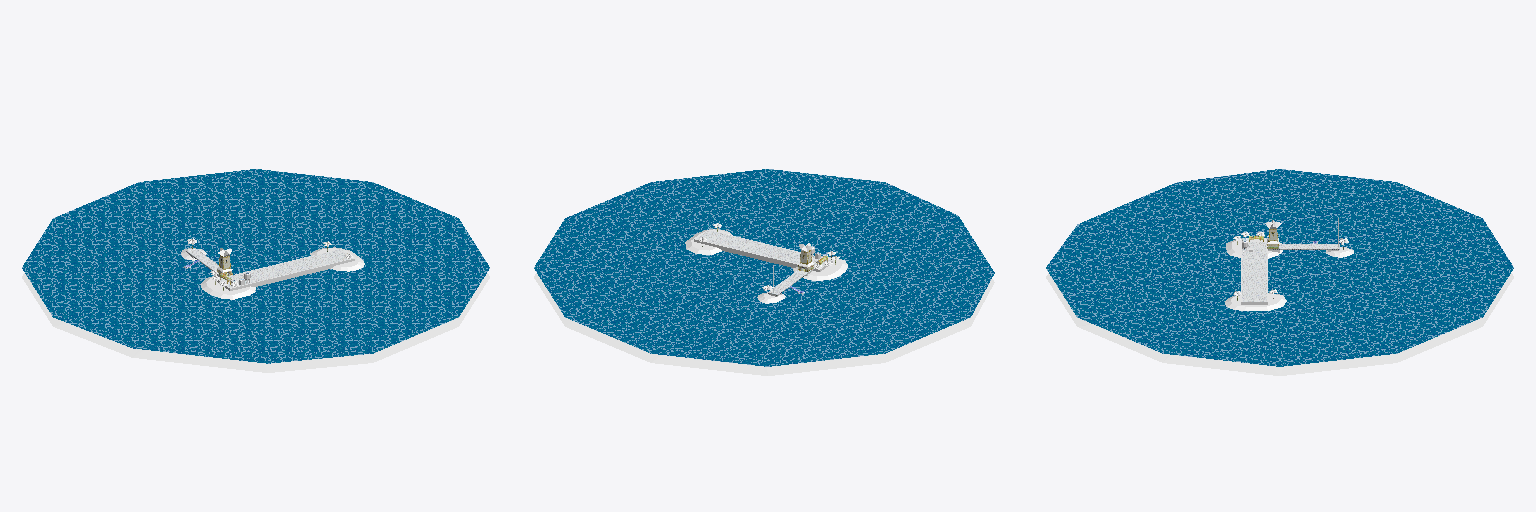
3 views of the same model, side by side, from view 1: azimuth 30°, elevation 25°; view 2: azimuth 150°, elevation 25°; view 3: azimuth 270°, elevation 25° (orthographic).
Visible parts, largest first — view 1: test; view 2: test; view 3: test.
Part boxes in pixels (x1,y1,x2,y2): test: (22,169,489,372); test: (534,169,994,375); test: (1046,169,1513,375).
Bounding box in the file's own units: 61.42 × 6.15 × 61.42.
Materials: 25 (16 with a texture image).